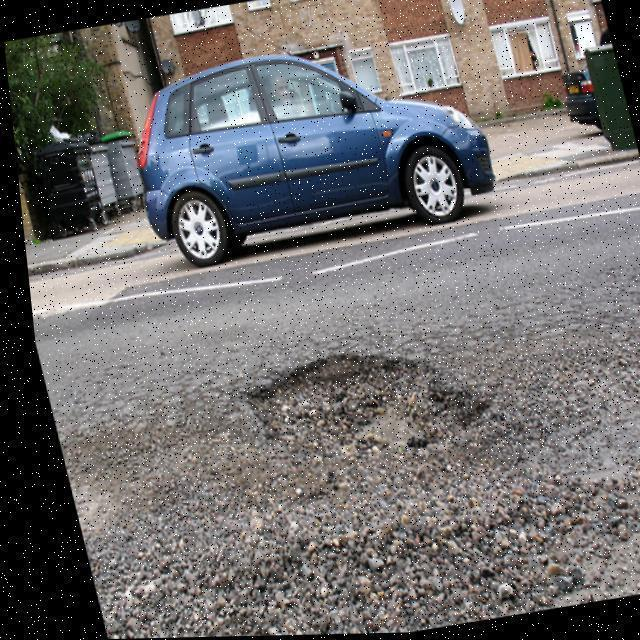Pothole: (110, 477, 640, 639), (239, 336, 489, 485)
